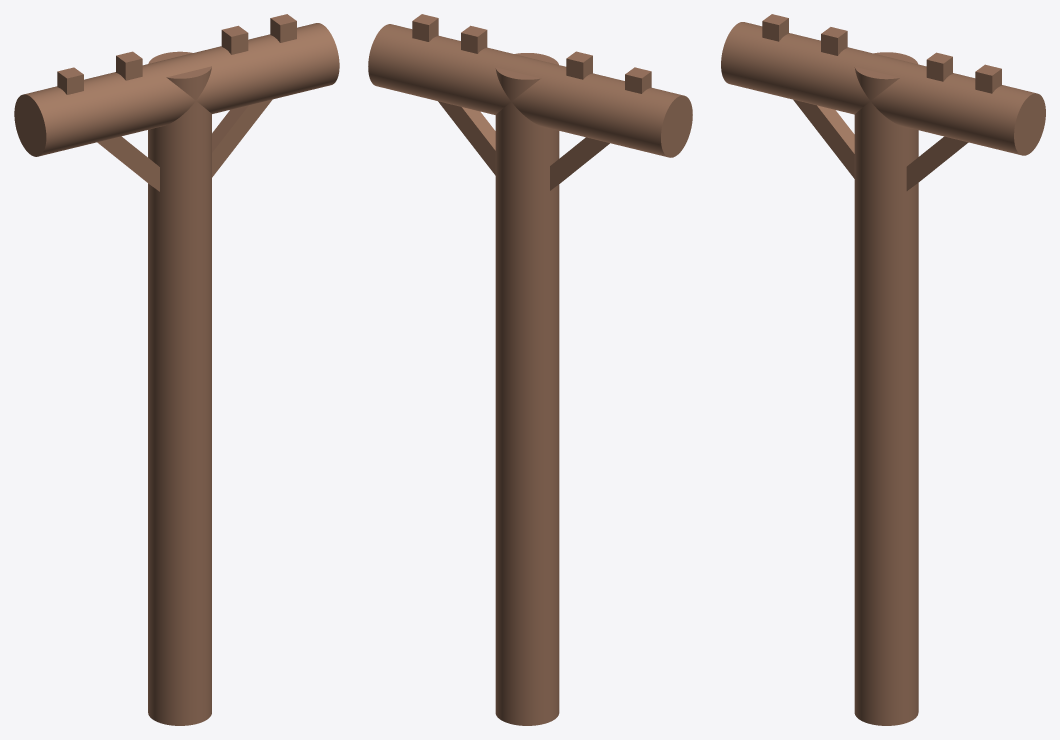
File: Electric_Pole_v3.glb
The picture shows the model from 3 angles, left to right: view 1: azimuth 30°, elevation 25°; view 2: azimuth 150°, elevation 25°; view 3: azimuth 330°, elevation 25°; orthographic projection.
Visible parts, largest first — view 1: mesh_id42, mesh_id48, mesh_id66, mesh_id60, mesh_id96, mesh_id84, mesh_id102, mesh_id90; view 2: mesh_id42, mesh_id48, mesh_id66, mesh_id60, mesh_id84, mesh_id96, mesh_id102, mesh_id90; view 3: mesh_id42, mesh_id48, mesh_id60, mesh_id66, mesh_id96, mesh_id84, mesh_id102, mesh_id90.
Part boxes in pixels (x1=…): mesh_id42: x1=148, y1=51, x2=211, y2=725; mesh_id48: x1=14, y1=23, x2=339, y2=156; mesh_id66: x1=212, y1=99, x2=272, y2=177; mesh_id60: x1=97, y1=136, x2=159, y2=191; mesh_id96: x1=221, y1=25, x2=248, y2=54; mesh_id84: x1=116, y1=51, x2=142, y2=80; mesh_id102: x1=270, y1=14, x2=296, y2=42; mesh_id90: x1=57, y1=67, x2=83, y2=94; mesh_id42: x1=495, y1=53, x2=559, y2=725; mesh_id48: x1=368, y1=24, x2=692, y2=157; mesh_id66: x1=438, y1=101, x2=495, y2=175; mesh_id60: x1=550, y1=137, x2=609, y2=190; mesh_id84: x1=566, y1=51, x2=592, y2=79; mesh_id96: x1=461, y1=25, x2=487, y2=53; mesh_id102: x1=412, y1=14, x2=438, y2=41; mesh_id90: x1=625, y1=67, x2=651, y2=93; mesh_id42: x1=854, y1=52, x2=918, y2=725; mesh_id48: x1=721, y1=22, x2=1045, y2=155; mesh_id60: x1=793, y1=99, x2=854, y2=178; mesh_id66: x1=906, y1=136, x2=968, y2=190; mesh_id96: x1=926, y1=52, x2=952, y2=81; mesh_id84: x1=821, y1=27, x2=847, y2=55; mesh_id102: x1=975, y1=64, x2=1001, y2=93; mesh_id90: x1=762, y1=14, x2=788, y2=41.
Bounding box in the file's own units: 0.0881 × 0.192 × 0.0166.
9 materials, 9 textured.
